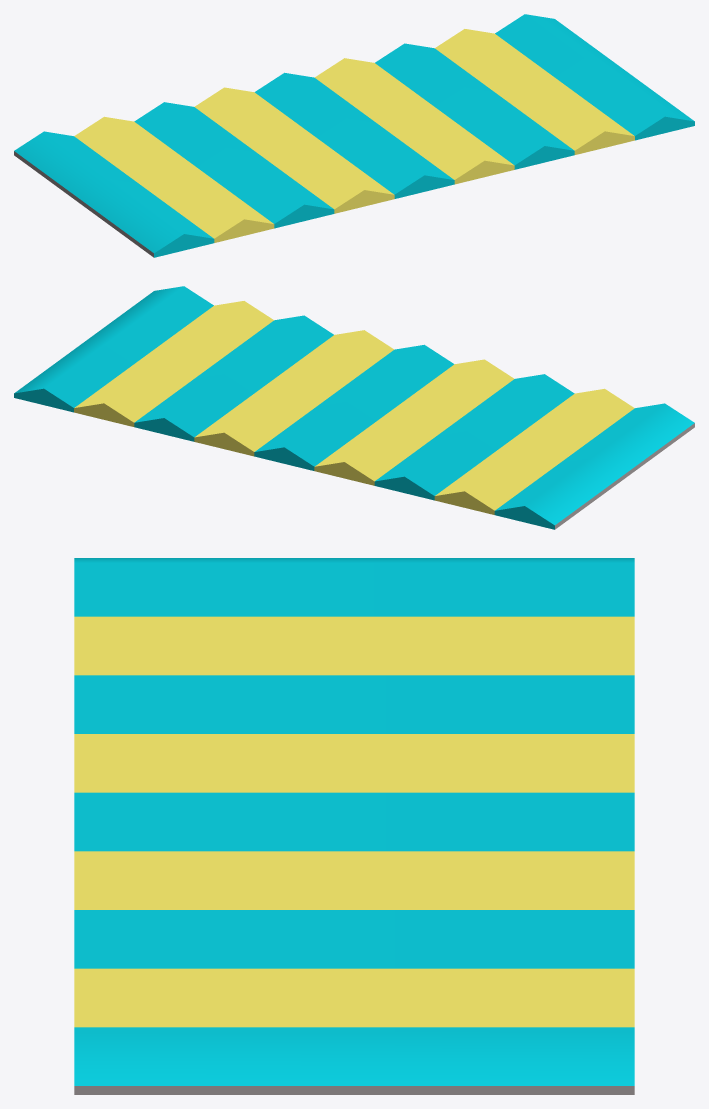
The model's file is carpet_005.glb.
3 renders of one model, top to bottom at view 1: azimuth 30°, elevation 25°; view 2: azimuth 150°, elevation 25°; view 3: azimuth 270°, elevation 25°, orthographic. The views are drawn at different scales.
Parts seen in each view (by area): view 1: carpet_005; view 2: carpet_005; view 3: carpet_005.
Part boxes in pixels (x1=…): carpet_005: x1=14, y1=14, x2=694, y2=257; carpet_005: x1=14, y1=286, x2=694, y2=529; carpet_005: x1=74, y1=558, x2=634, y2=1094.
Size of the model in its own units: 1.36 by 0.0398 by 0.6104.
Materials: 1 (1 with a texture image).
